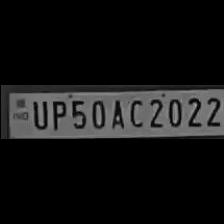0: (88, 97, 106, 129), (164, 96, 182, 127)
2: (202, 93, 222, 126), (184, 94, 202, 128), (146, 96, 164, 128)
5: (66, 96, 86, 130)
A: (107, 96, 125, 130)
C: (125, 96, 144, 128)
P: (48, 97, 66, 130)
U: (29, 98, 47, 130)
